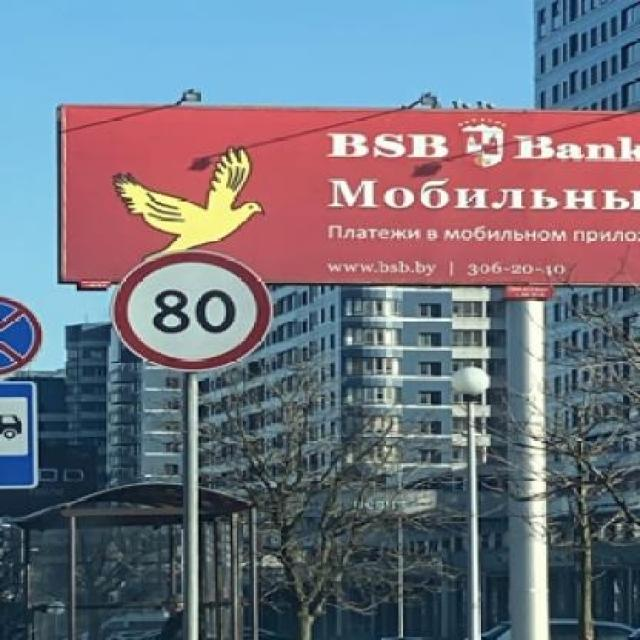forb_speed_over_80: (118, 249, 272, 372)
